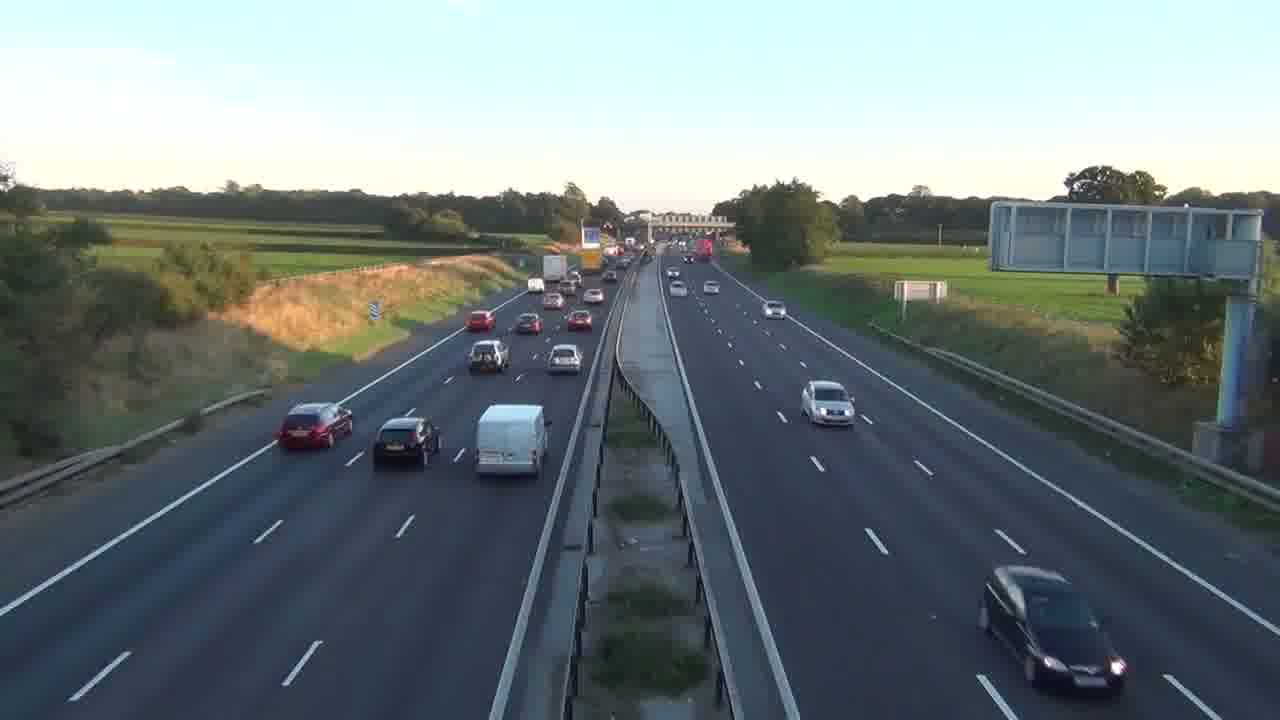car: (978, 562, 1131, 697), (277, 402, 353, 452), (800, 379, 857, 428), (466, 338, 511, 374), (547, 343, 582, 374), (512, 312, 542, 335), (565, 309, 593, 332), (765, 299, 786, 318)
truck: (978, 562, 1131, 697), (474, 402, 550, 478)
